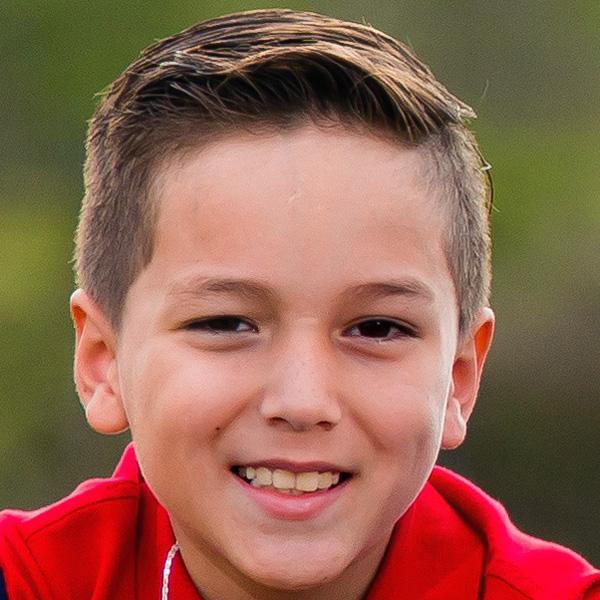Eyes: (166, 297, 268, 349), (331, 305, 429, 351)
